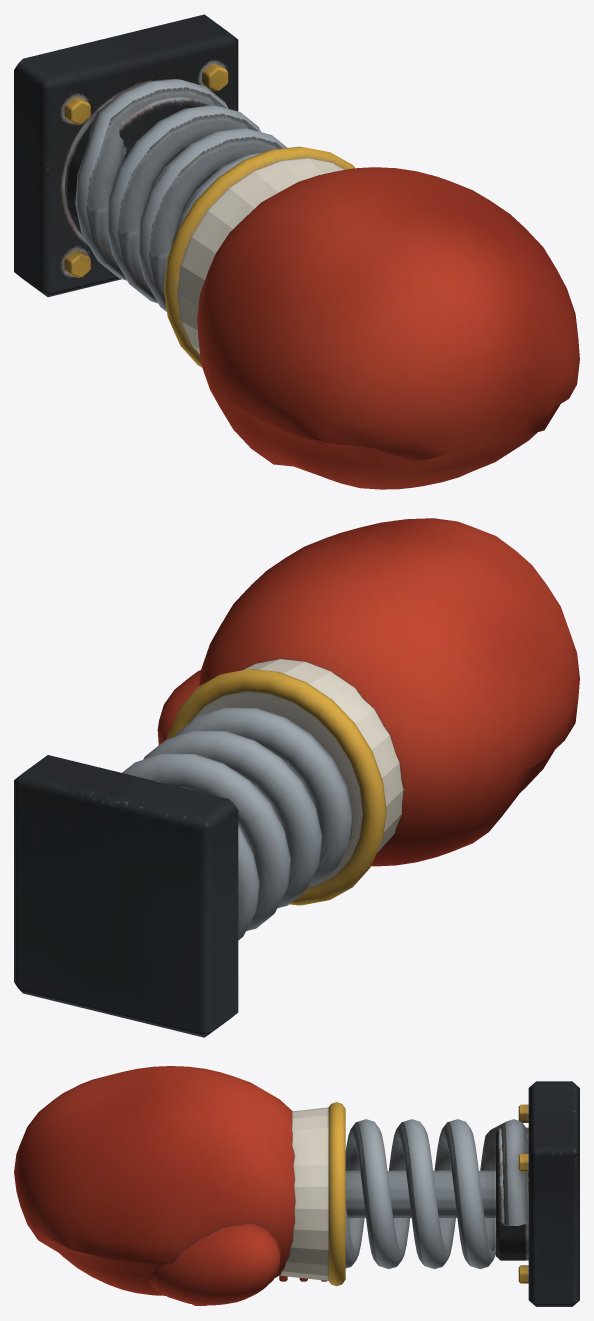
Rendered from boxing_glove-v001.glb.
3 renders of one model, top to bottom at view 1: azimuth 30°, elevation 25°; view 2: azimuth 150°, elevation 25°; view 3: azimuth 270°, elevation 25°, orthographic. The views are drawn at different scales.
Parts seen in each view (by area): view 1: BoxingGlove; view 2: BoxingGlove; view 3: BoxingGlove.
Boxes of the visible parts, x1,y1,x2,y2 form: BoxingGlove: (14, 14, 579, 489); BoxingGlove: (14, 518, 579, 1037); BoxingGlove: (14, 1066, 579, 1306).
Size of the model in its own units: 0.3038 by 0.252 by 0.6059.
Materials: 1 (1 with a texture image).
